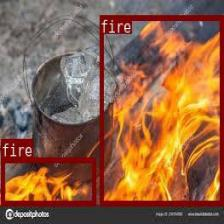fire: (99, 14, 222, 204), (0, 157, 96, 205)
